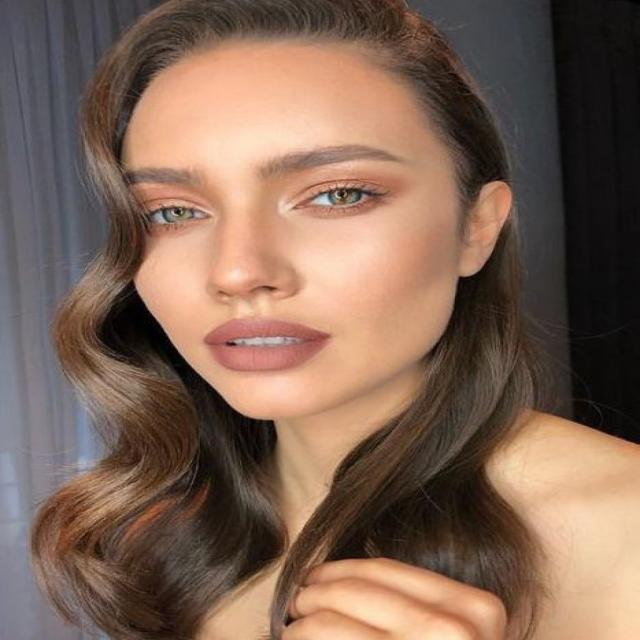earlobe: (458, 180, 513, 278)
